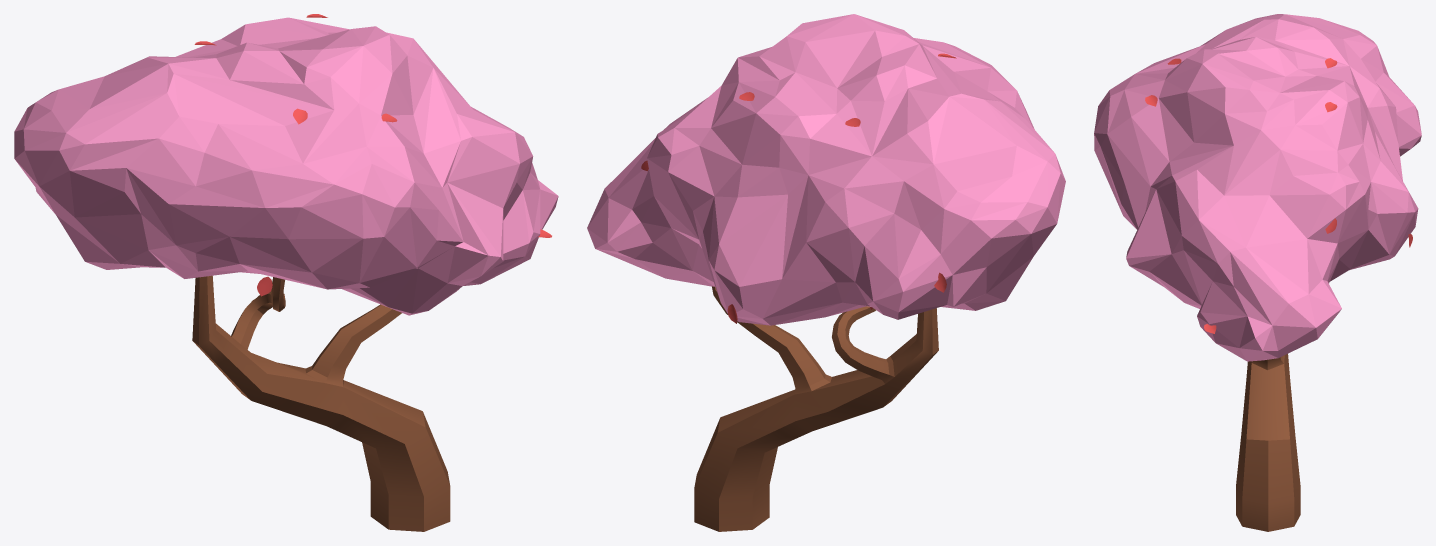
File: cerezo.glb
The picture shows the model from 3 angles, left to right: view 1: azimuth 30°, elevation 25°; view 2: azimuth 150°, elevation 25°; view 3: azimuth 270°, elevation 25°; orthographic projection. The views are drawn at different scales.
Visible parts, largest first — view 1: Object_2, Object_3, Object_4; view 2: Object_2, Object_3, Object_4; view 3: Object_2, Object_3, Object_4.
Part boxes in pixels (bbox=[...]): Object_2: bbox=[14, 17, 558, 315]; Object_3: bbox=[192, 275, 450, 531]; Object_4: bbox=[194, 14, 551, 296]; Object_2: bbox=[587, 14, 1065, 325]; Object_3: bbox=[694, 286, 938, 531]; Object_4: bbox=[641, 53, 956, 323]; Object_2: bbox=[1094, 14, 1421, 361]; Object_3: bbox=[1236, 354, 1300, 531]; Object_4: bbox=[1145, 58, 1412, 333].
Bounding box in the file's own units: 1.79 × 1.78 × 1.26.
